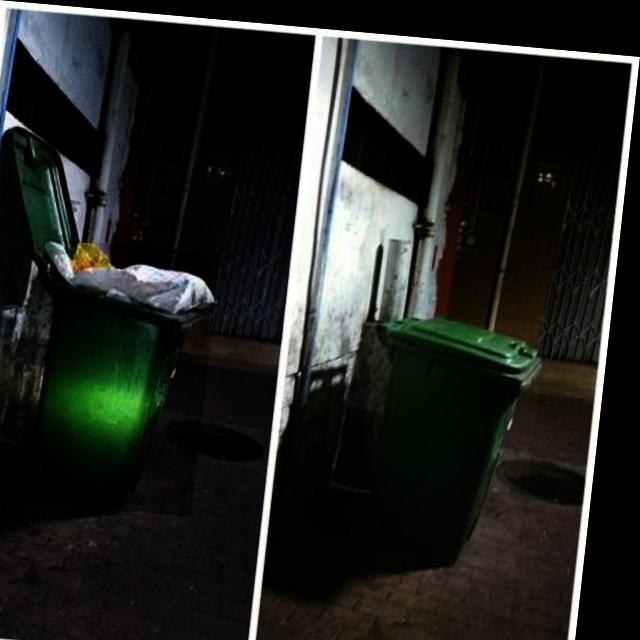garbage_bin: (362, 304, 552, 560)
overflow: (27, 237, 226, 512)
